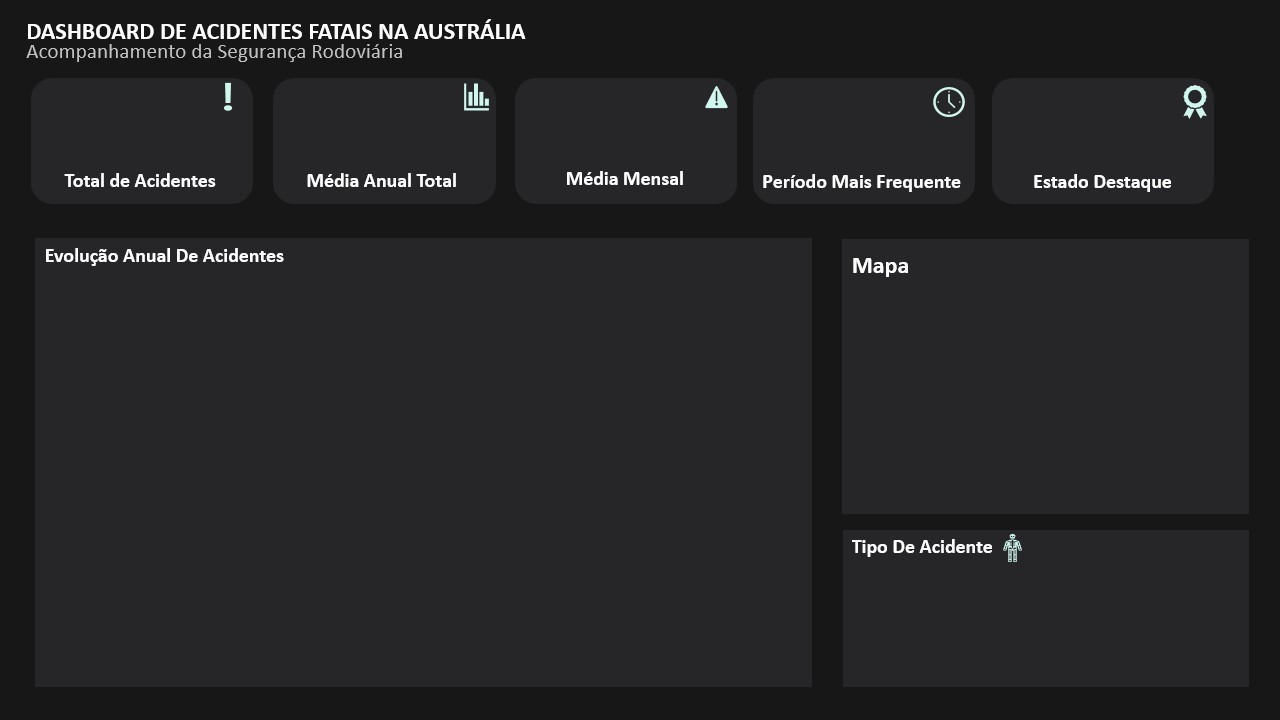

What the dashboard file says about the page in this screenshot:
{"tool":"powerbi","page":{"name":"Página 1","canvas":[1280,720],"ordinal":0},"visuals":[{"type":"card","fields":{"Values":["dataset_limpo1.Total de Acidentes"]},"box":[43,83.6,194,87.1],"z":0},{"type":"card","fields":{"Values":["dataset_limpo1.Média Anual de Acidentes"]},"box":[298.5,96.4,167.3,65],"z":1000},{"type":"card","fields":{"Values":["dataset_limpo1.Estado com Mais Acidentes"]},"box":[995.4,83.6,214.9,91.8],"z":2000},{"type":"stackedAreaChart","fields":{"Category":["dataset_limpo1.Ano"],"Y":["dataset_limpo1.Total de Acidentes"]},"box":[43,273,773.6,412.3],"z":3000},{"type":"filledMap","fields":{"Category":["dataset_limpo1.Estado"]},"box":[843.3,248.6,401.9,261.3],"z":4000},{"type":"barChart","fields":{"Category":["dataset_limpo1.Tipo_Acidente"],"Y":["dataset_limpo1.Total de Acidentes"]},"box":[829.3,545.9,415.8,139.4],"z":5000},{"type":"card","fields":{"Values":["dataset_limpo1.Média Mensal de Acidentes"]},"box":[527.3,96.4,184.7,65],"z":6000},{"type":"card","fields":{"Values":["dataset_limpo1.Período Mais Frequente"]},"box":[767.8,75.5,180,105.7],"z":7000}]}

Visuals, with their boxes in screenshot pixels (x1, y1, x2, y2), scaled from the page's 1280x720 canvas onto the 1280x720 screenshot:
card - dataset_limpo1.Total de Acidentes: (x1=43, y1=84, x2=237, y2=171)
card - dataset_limpo1.Média Anual de Acidentes: (x1=298, y1=96, x2=466, y2=161)
card - dataset_limpo1.Estado com Mais Acidentes: (x1=995, y1=84, x2=1210, y2=175)
stackedAreaChart - dataset_limpo1.Ano x dataset_limpo1.Total de Acidentes: (x1=43, y1=273, x2=817, y2=685)
filledMap - dataset_limpo1.Estado: (x1=843, y1=249, x2=1245, y2=510)
barChart - dataset_limpo1.Tipo_Acidente x dataset_limpo1.Total de Acidentes: (x1=829, y1=546, x2=1245, y2=685)
card - dataset_limpo1.Média Mensal de Acidentes: (x1=527, y1=96, x2=712, y2=161)
card - dataset_limpo1.Período Mais Frequente: (x1=768, y1=76, x2=948, y2=181)
